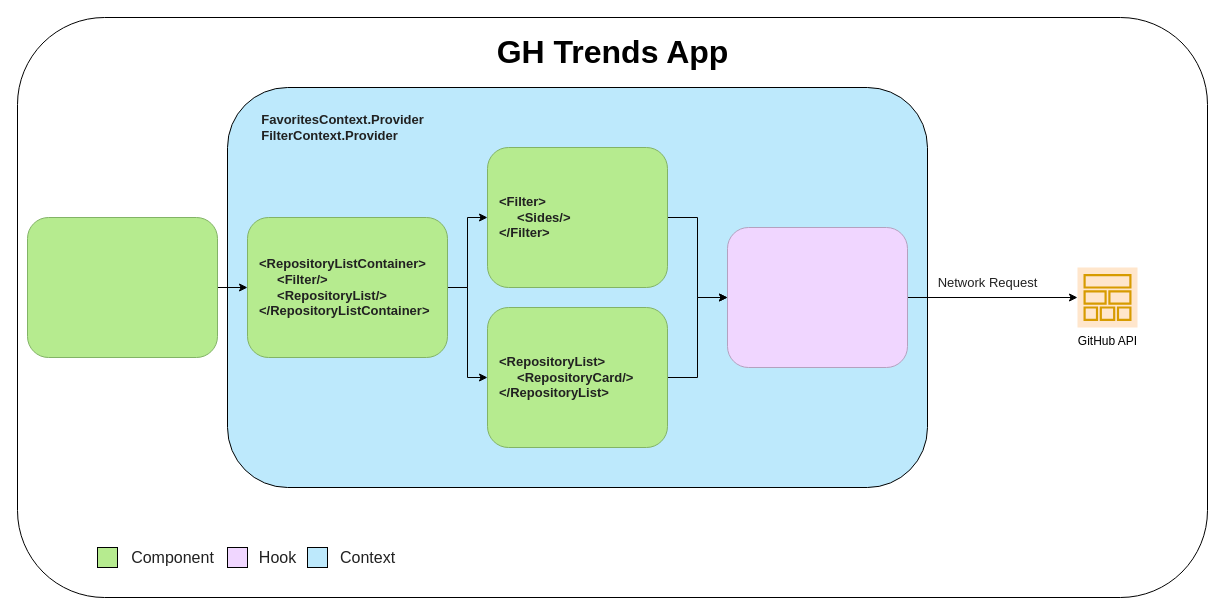
Image size: 1225x615. Some labels were removed from this diagram. Each missing label, with the centre of its shape:
<Home> <RepositoryListContainer> </Home>: the point at 122,287
useRepositoryList: the point at 817,297
